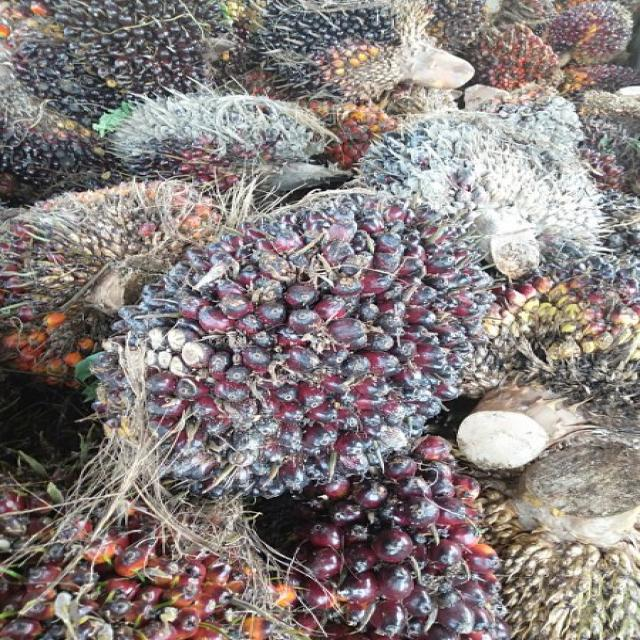fraksi 00: (0, 0, 242, 128), (226, 1, 441, 108)
fraksi 1: (108, 200, 498, 484)
